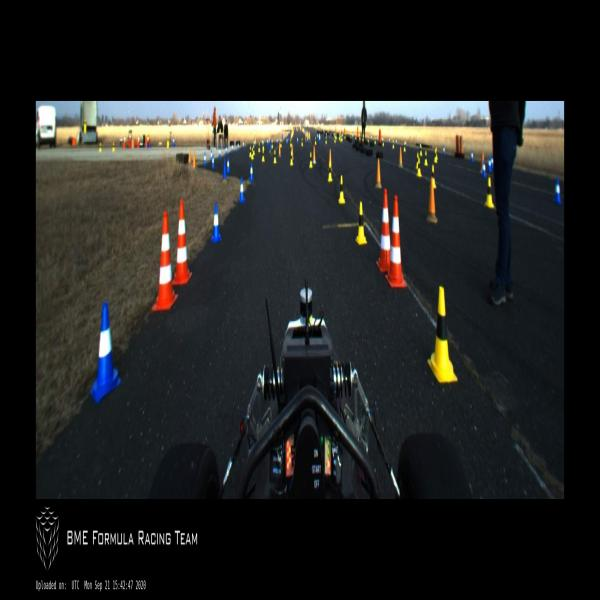blue_cone: (91, 304, 121, 403), (210, 202, 222, 242), (552, 177, 562, 204), (238, 176, 246, 202), (226, 156, 231, 174), (249, 163, 254, 180), (482, 160, 486, 178), (211, 154, 215, 169), (203, 152, 207, 167), (488, 157, 491, 173), (490, 154, 493, 170), (470, 150, 473, 163), (210, 150, 212, 162), (219, 147, 220, 159)
large_orange_cone: (152, 211, 178, 311), (385, 196, 407, 289), (173, 200, 194, 288), (376, 190, 393, 272)
unknown_cone: (425, 176, 438, 224), (375, 158, 382, 190), (397, 146, 403, 168)
yellow_cone: (427, 288, 457, 382), (356, 202, 367, 245), (484, 177, 494, 208), (338, 175, 345, 203), (430, 163, 437, 189), (328, 162, 332, 182), (417, 158, 421, 177), (424, 151, 428, 166), (309, 153, 313, 166), (415, 153, 418, 170), (290, 152, 293, 165), (251, 147, 254, 159), (314, 137, 317, 146), (274, 150, 276, 162), (262, 149, 264, 160), (258, 142, 260, 152), (271, 140, 273, 148), (280, 140, 282, 148), (290, 139, 292, 147), (301, 138, 303, 146)
